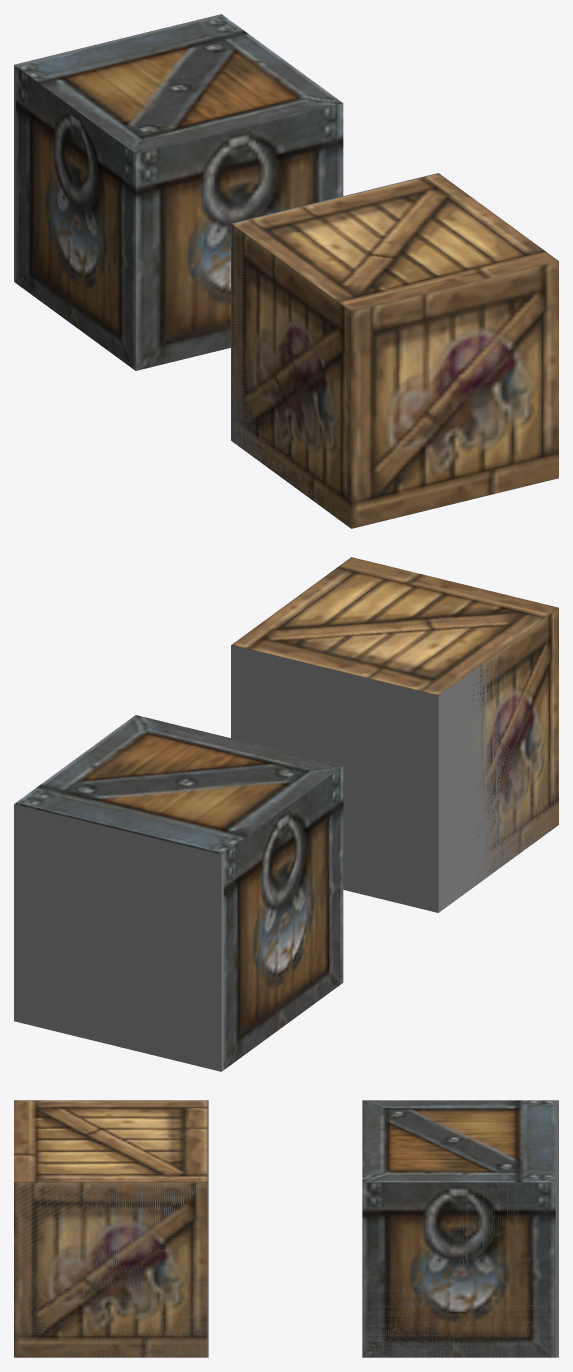
File: xiangzi.FBX
3 renders of one model, top to bottom at view 1: azimuth 30°, elevation 25°; view 2: azimuth 150°, elevation 25°; view 3: azimuth 270°, elevation 25°, orthographic. The views are drawn at different scales.
Visible parts, largest first — view 1: xiangzi1, xiangzi2, xiangzi003, Object001; view 2: xiangzi2, xiangzi003, Object001, xiangzi1; view 3: xiangzi2, xiangzi1, xiangzi003, Object001.
Boxes of the visible parts, x1,y1,x2,y2 form: xiangzi1: (231,173,558,528); xiangzi2: (16,15,343,370); xiangzi003: (231,173,438,524); Object001: (14,14,222,282); xiangzi2: (16,715,343,1069); xiangzi003: (231,645,558,912); Object001: (14,803,246,1071); xiangzi1: (232,557,558,884); xiangzi2: (362,1100,555,1357); xiangzi1: (14,1100,207,1357); xiangzi003: (15,1100,208,1357); Object001: (366,1100,558,1357).
Size of the model in its own units: 0.5 by 0.5 by 1.41.
Materials: 2 (1 with a texture image).
